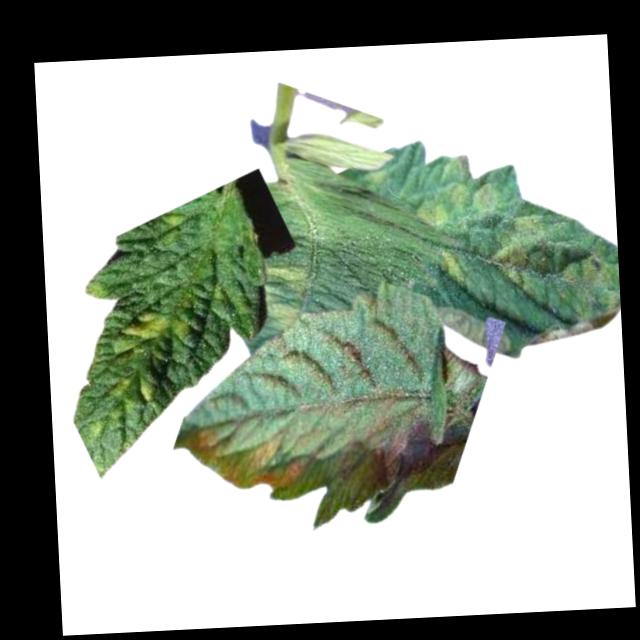Leaf_Mold: (490, 209, 615, 323), (184, 416, 313, 500), (415, 153, 503, 231), (262, 256, 319, 333), (112, 304, 189, 354), (106, 366, 157, 410), (434, 246, 468, 291)
